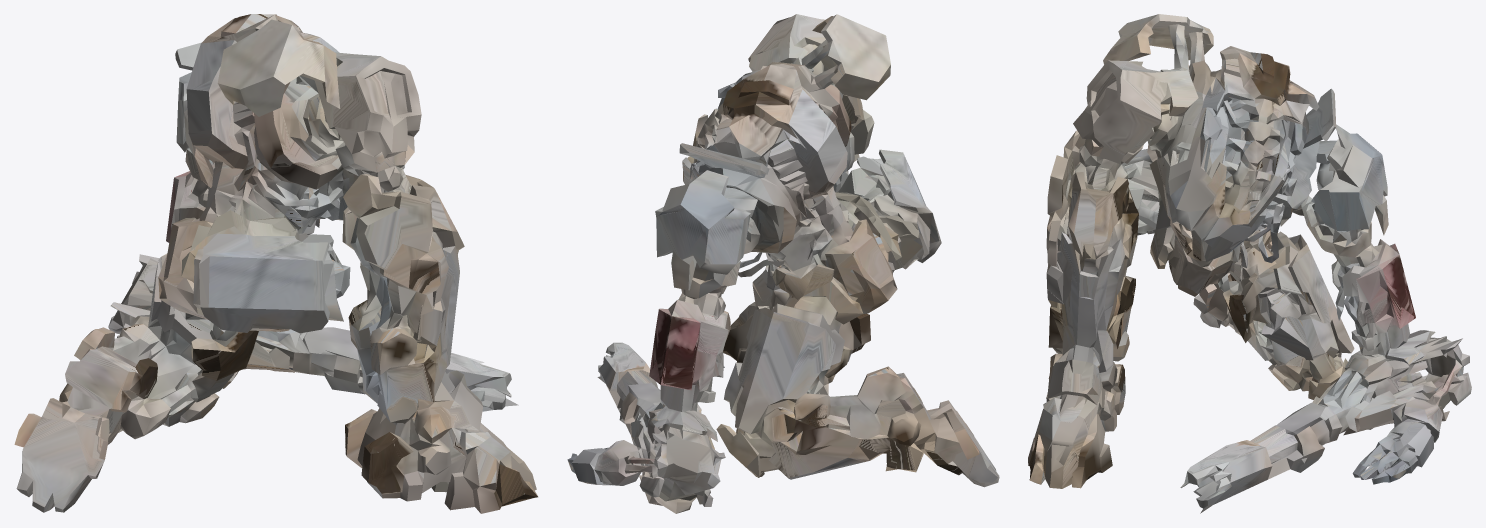
3 renders of one model, left to right at view 1: azimuth 30°, elevation 25°; view 2: azimuth 150°, elevation 25°; view 3: azimuth 270°, elevation 25°, orthographic. The views are drawn at different scales.
Parts seen in each view (by area): view 1: k01; view 2: k01; view 3: k01.
Part boxes in pixels (x1=…): k01: x1=14, y1=14, x2=537, y2=513; k01: x1=567, y1=14, x2=999, y2=513; k01: x1=1028, y1=14, x2=1471, y2=513.
Size of the model in its own units: 23.74 by 22 by 22.06.
1 material, 1 textured.
